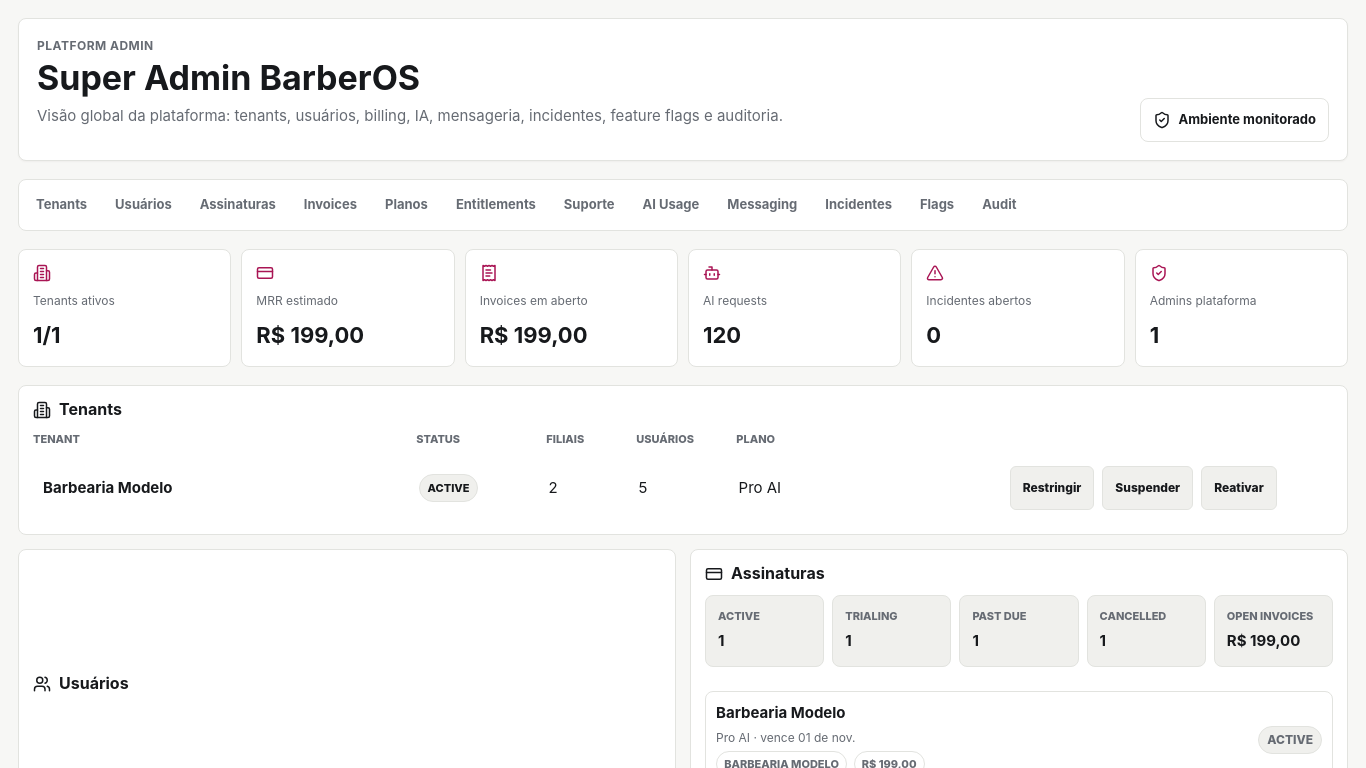
Test: MasterAdminView › opens and closes tenant lifecycle modal from outside click
Click the button "Restringir" at (1052, 488), box [1010,466,1094,510]
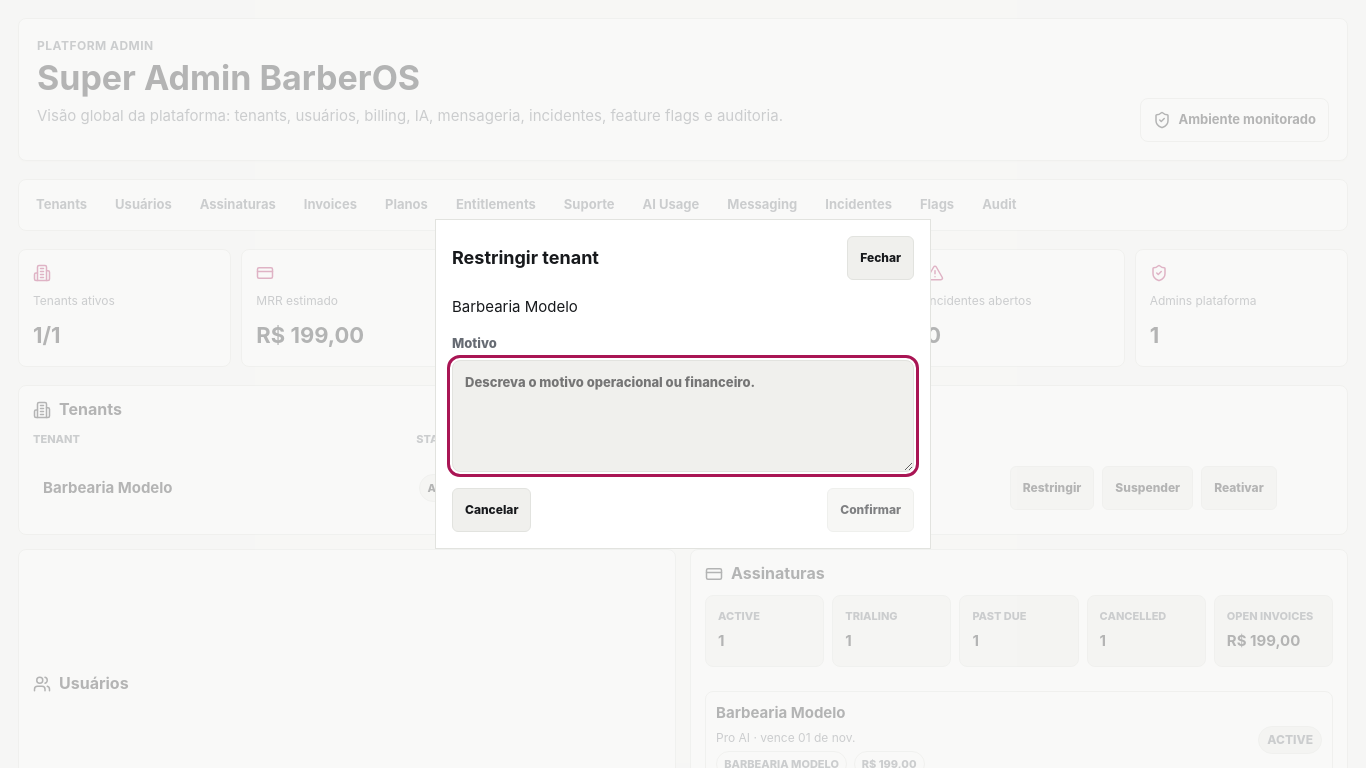
Expected: the dialog shows "Restringir tenant", [452,247,599,268]
Expected: the element with class "master-modal-backdrop" is shown
Press the mouse on the element with class "master-modal-backdrop" at (683, 384), box [0,0,1365,767]
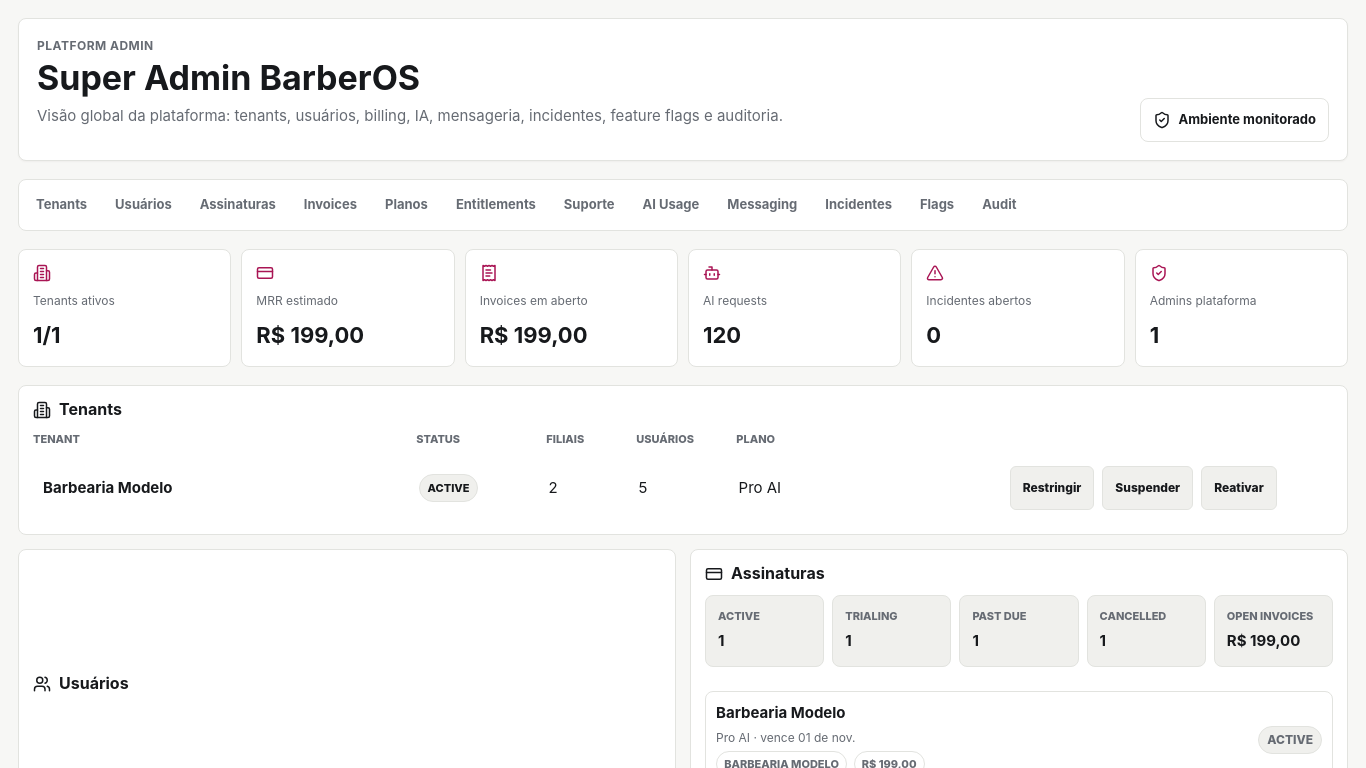
Expected: the dialog is gone
